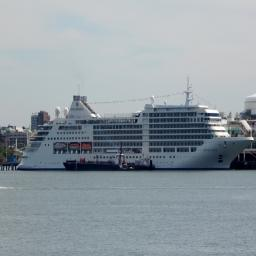cruises: (16, 86, 254, 177)
